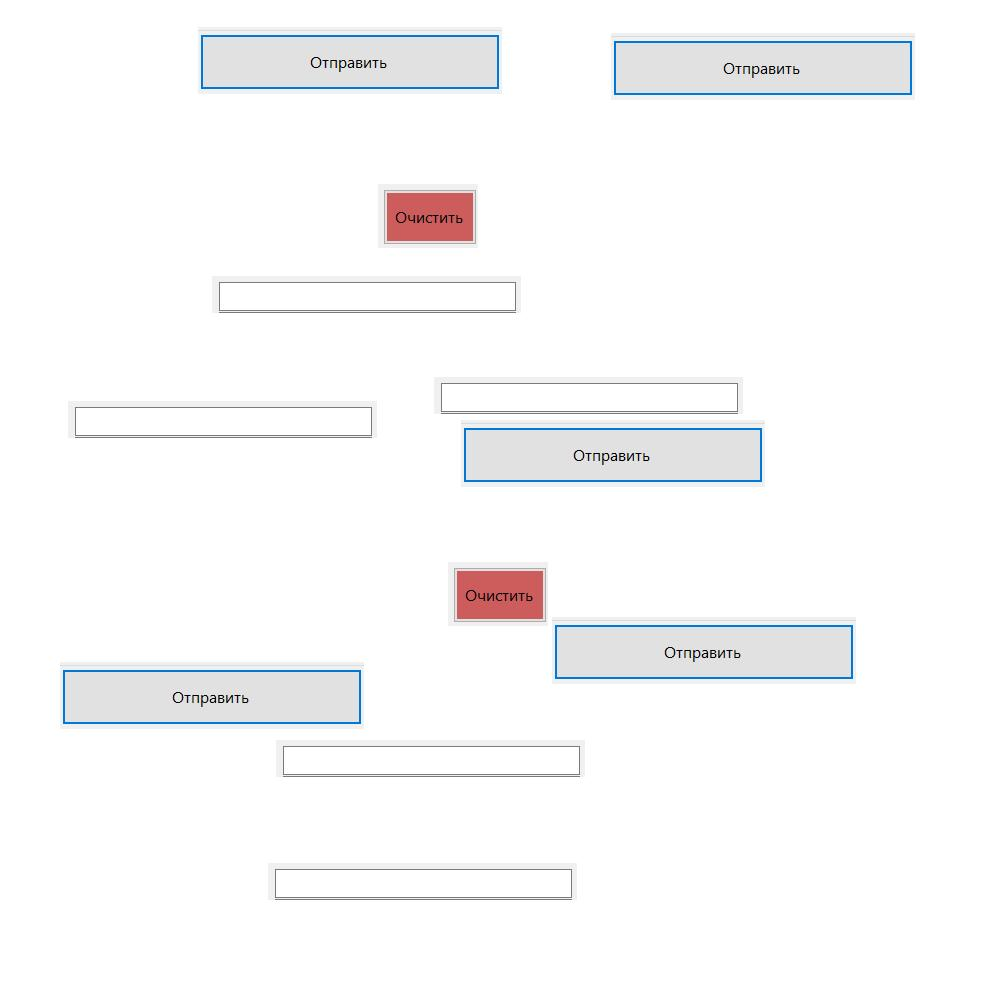Button: (611, 33, 915, 100), (60, 662, 364, 729), (552, 617, 856, 684), (198, 27, 502, 94), (461, 420, 765, 487), (378, 184, 478, 248), (448, 562, 548, 626)
EditText-: (268, 863, 577, 900), (276, 740, 585, 777), (212, 276, 521, 313), (434, 377, 743, 414), (68, 401, 377, 438)
